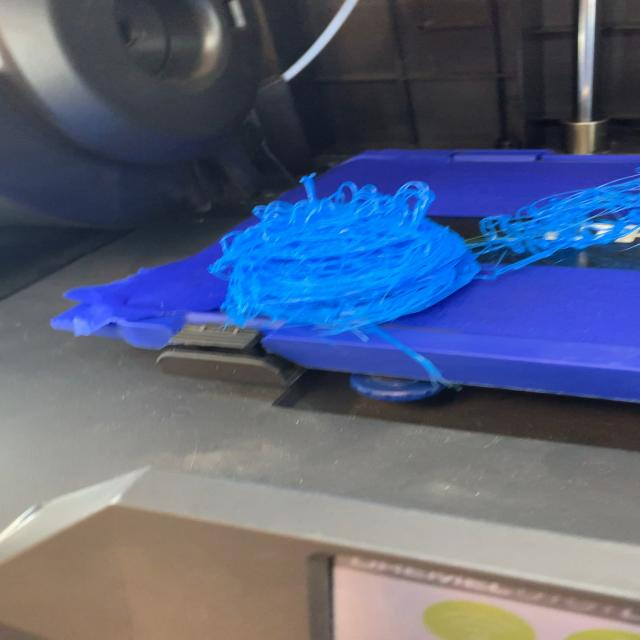spaghetti: (50, 167, 638, 349), (207, 172, 481, 336)
